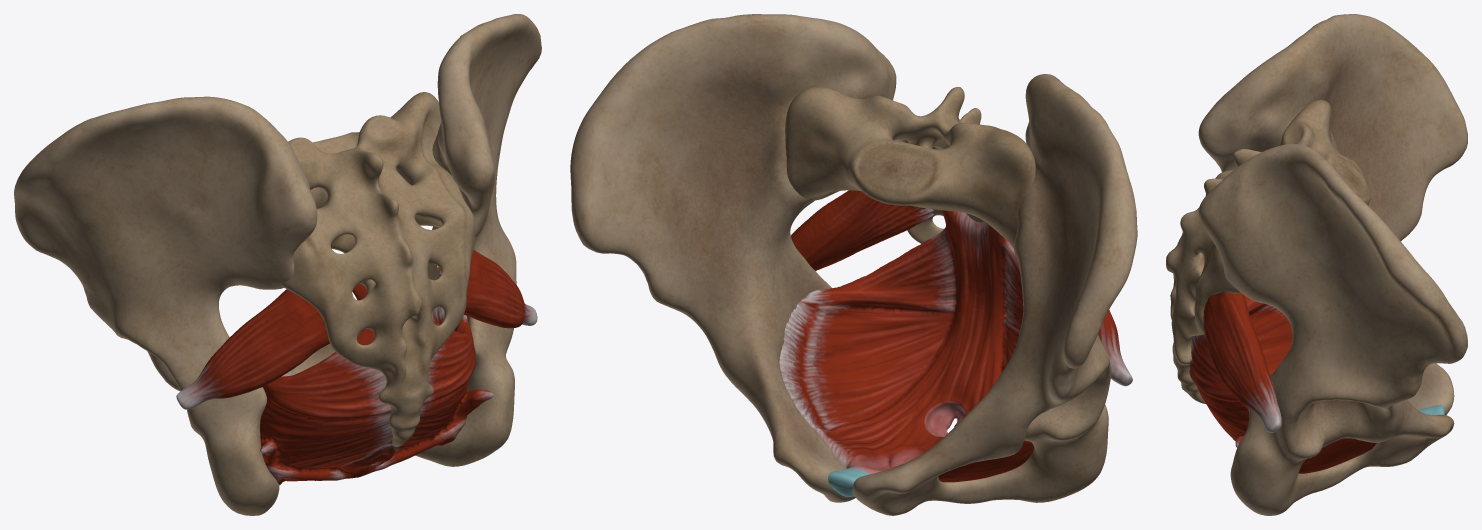
The model's file is 2025-female-pelvic-floor-muscles.gltf.
The picture shows the model from 3 angles, left to right: view 1: azimuth 30°, elevation 25°; view 2: azimuth 150°, elevation 25°; view 3: azimuth 270°, elevation 25°; orthographic projection. The views are drawn at different scales.
Parts seen in each view (by area): view 1: Pelvis, Sacrum, Muscles; view 2: Pelvis, Muscles, Sacrum; view 3: Pelvis, Muscles, Sacrum.
Boxes of the visible parts, x1,y1,x2,y2 form: Pelvis: [14, 14, 541, 515]; Sacrum: [281, 92, 475, 446]; Muscles: [176, 250, 537, 485]; Pelvis: [570, 14, 1137, 515]; Muscles: [779, 190, 1132, 496]; Sacrum: [785, 87, 1035, 246]; Pelvis: [1198, 14, 1467, 515]; Muscles: [1189, 291, 1444, 473]; Sacrum: [1166, 99, 1370, 403].
Bounding box in the file's own units: 290 × 221 × 160.
3 materials, 3 textured.
